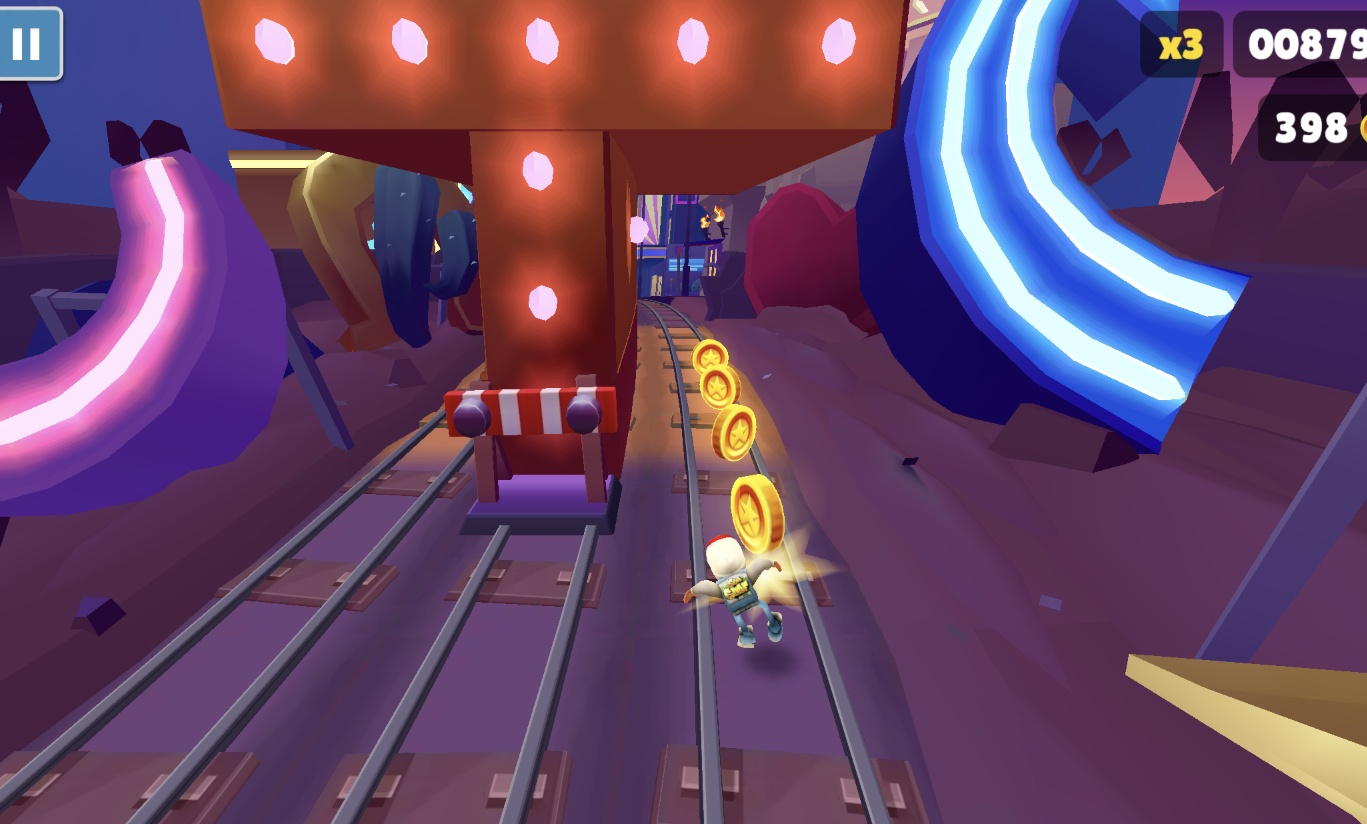ground_barrier: (444, 376, 620, 538)
pillar: (470, 130, 638, 491)
